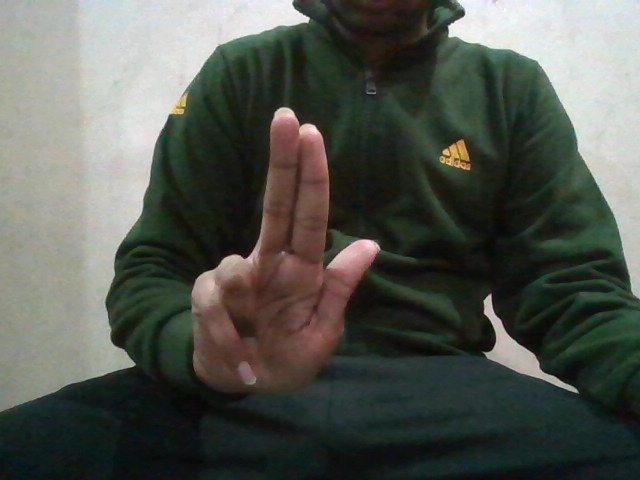K: (192, 100, 383, 409)
